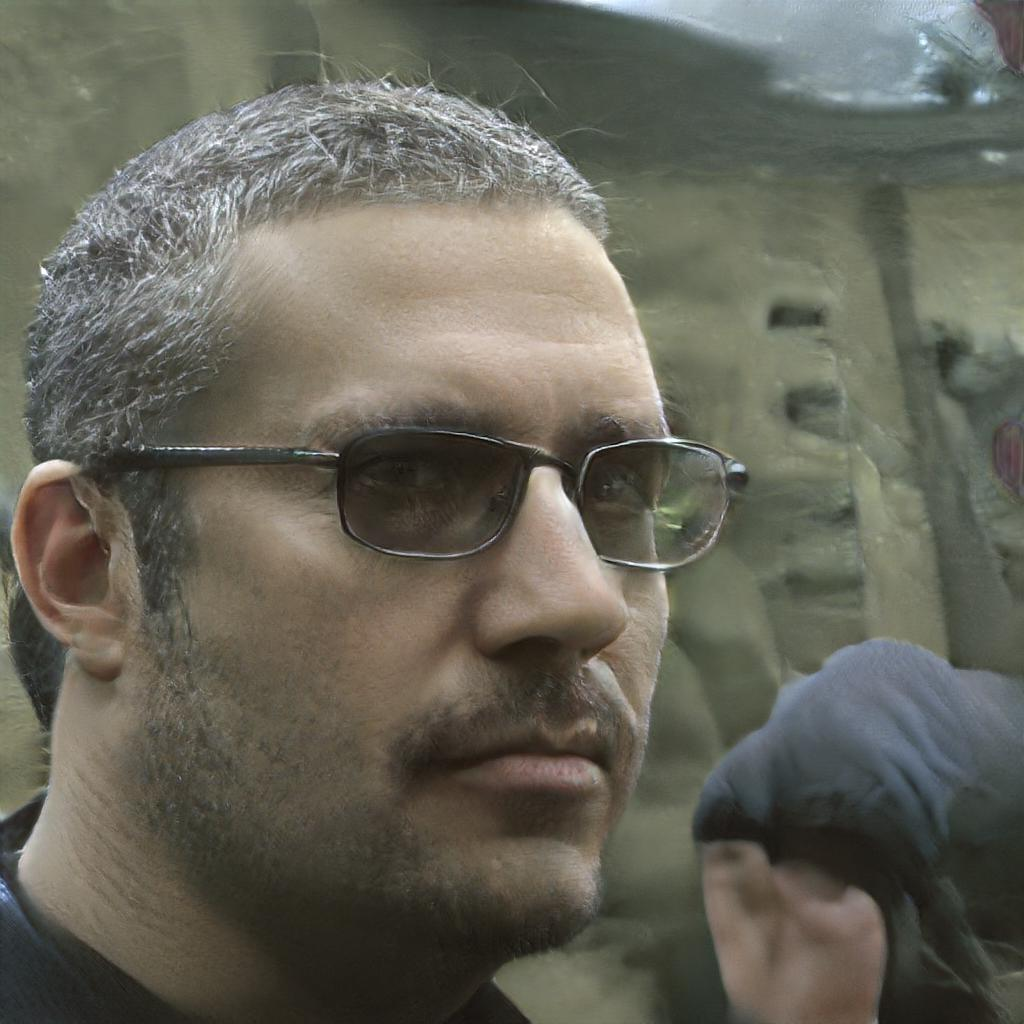face: (135, 208, 670, 953)
